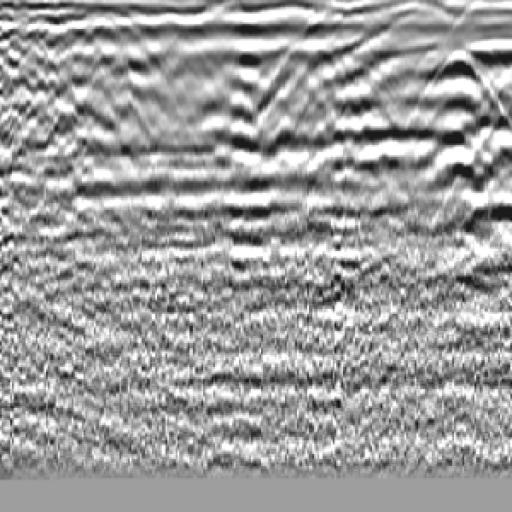non-metallic: (209, 35, 371, 257), (391, 37, 512, 247)
